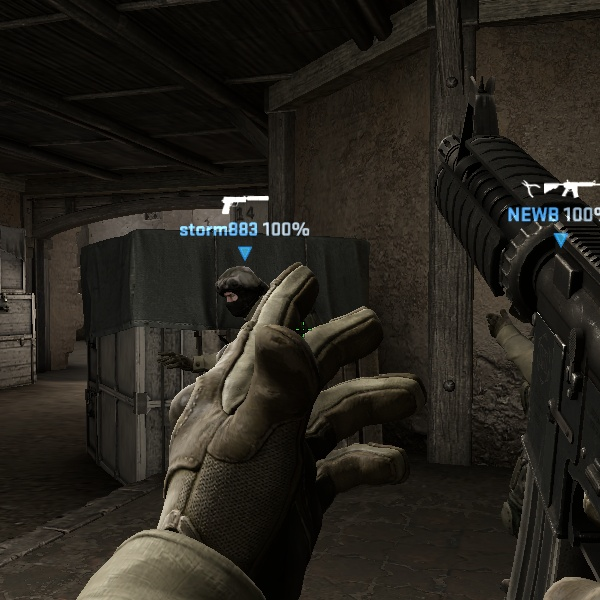ct_head: (202, 256, 280, 327)
